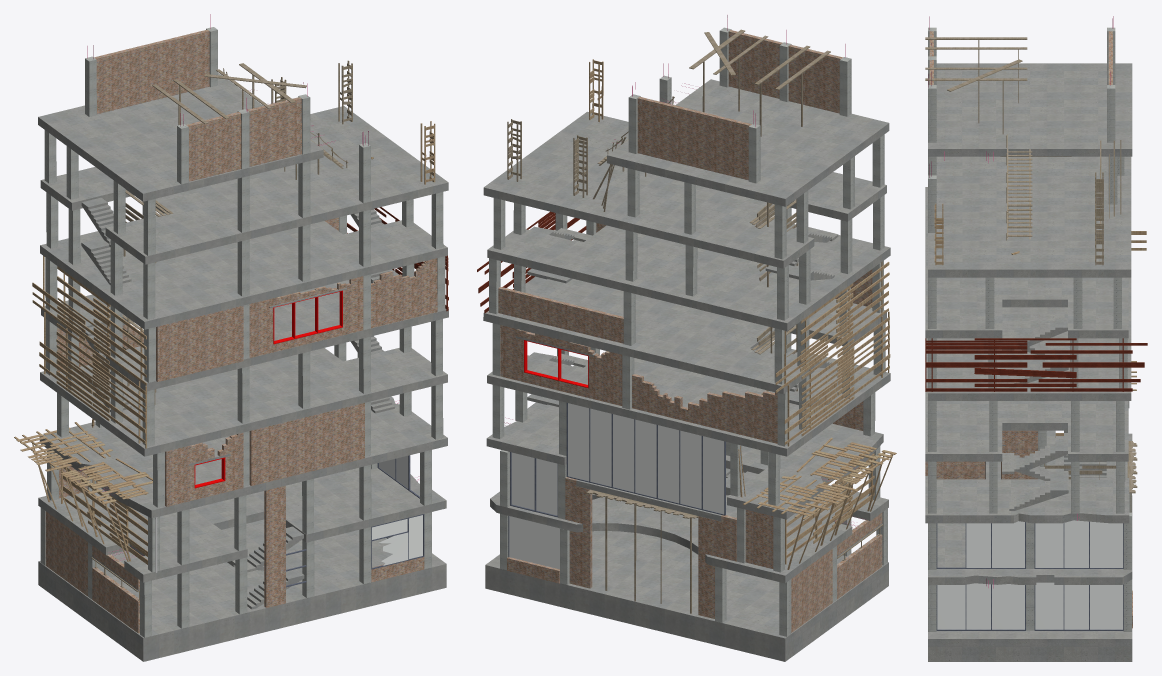
File: concrete-frame-under-construction.glb
The picture shows the model from 3 angles, left to right: view 1: azimuth 30°, elevation 25°; view 2: azimuth 150°, elevation 25°; view 3: azimuth 270°, elevation 25°; orthographic projection. The views are drawn at different scales.
Bounding box in the file's own units: 23.15 × 33.98 × 13.07.
Materials: 13 (9 with a texture image).
